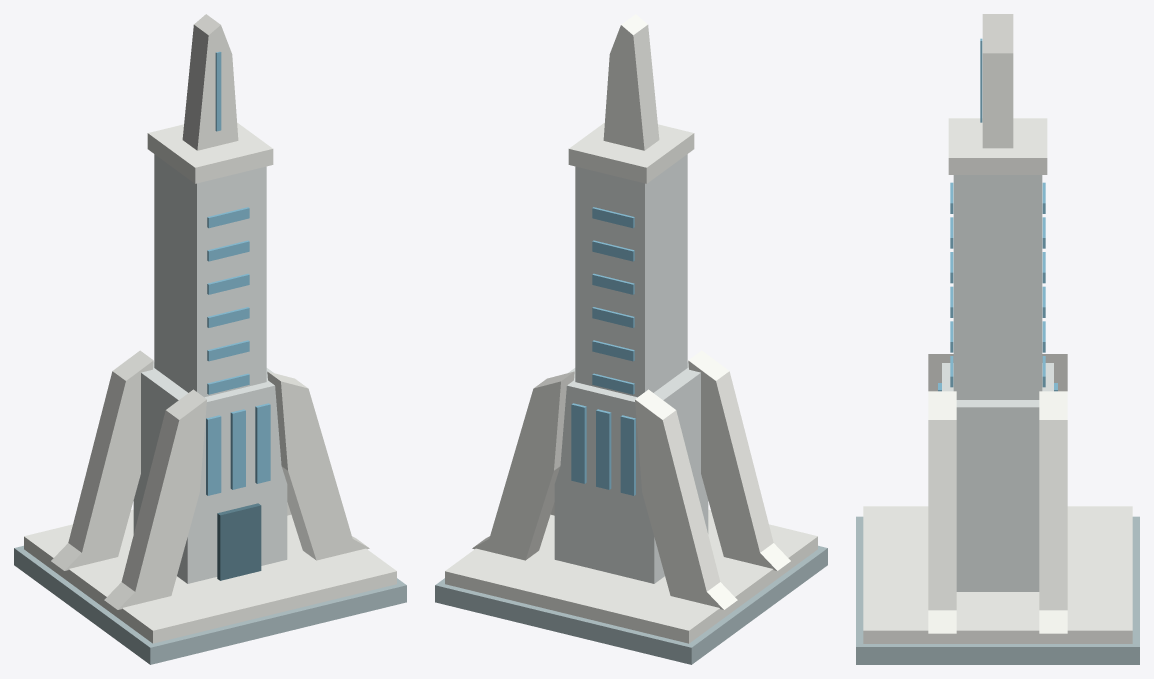
The model's file is 04_antenna_spire.glb.
The picture shows the model from 3 angles, left to right: view 1: azimuth 30°, elevation 25°; view 2: azimuth 150°, elevation 25°; view 3: azimuth 270°, elevation 25°; orthographic projection. The views are drawn at different scales.
Parts seen in each view (by area): view 1: splayed_leg (×3), upper_shaft, plinth, lower_core, foundation, antenna_fin, shaft_cap, lower_glass (×3), entry_recess; view 2: splayed_leg (×3), upper_shaft, plinth, lower_core, foundation, antenna_fin, shaft_cap, lower_glass (×3); view 3: plinth, upper_shaft, lower_core, splayed_leg (×4), foundation, shaft_cap, antenna_fin.
Part boxes in pixels (<box>): splayed_leg (×3): <box>51,350,369,609</box>; upper_shaft: <box>154,154,266,397</box>; plinth: <box>24,509,396,643</box>; lower_core: <box>133,362,287,583</box>; foundation: <box>14,545,406,664</box>; antenna_fin: <box>182,14,238,150</box>; shaft_cap: <box>147,122,273,183</box>; lower_glass (×3): <box>206,403,270,495</box>; entry_recess: <box>217,503,261,580</box>; splayed_leg (×3): <box>472,350,790,609</box>; upper_shaft: <box>575,154,687,397</box>; plinth: <box>445,509,817,643</box>; lower_core: <box>554,362,708,583</box>; foundation: <box>435,545,827,664</box>; antenna_fin: <box>603,14,659,150</box>; shaft_cap: <box>568,122,694,183</box>; lower_glass (×3): <box>571,403,635,495</box>; plinth: <box>863,506,1132,643</box>; upper_shaft: <box>953,175,1042,399</box>; lower_core: <box>942,363,1053,591</box>; splayed_leg (×4): <box>928,354,1067,633</box>; foundation: <box>856,516,1139,664</box>; shaft_cap: <box>948,118,1047,174</box>; antenna_fin: <box>982,14,1013,148</box>.
Size of the model in its own units: 2.5 by 5.25 by 2.3.
